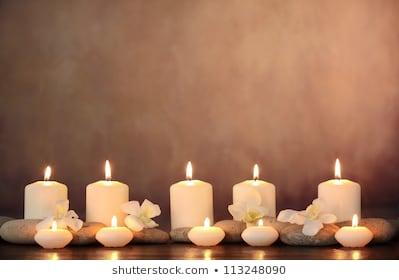Fire: (98, 157, 113, 178), (330, 158, 344, 180), (41, 163, 53, 183), (202, 213, 213, 230), (254, 213, 266, 228), (184, 159, 193, 178), (251, 162, 260, 181), (349, 213, 361, 226), (48, 219, 58, 232), (109, 215, 118, 227)
